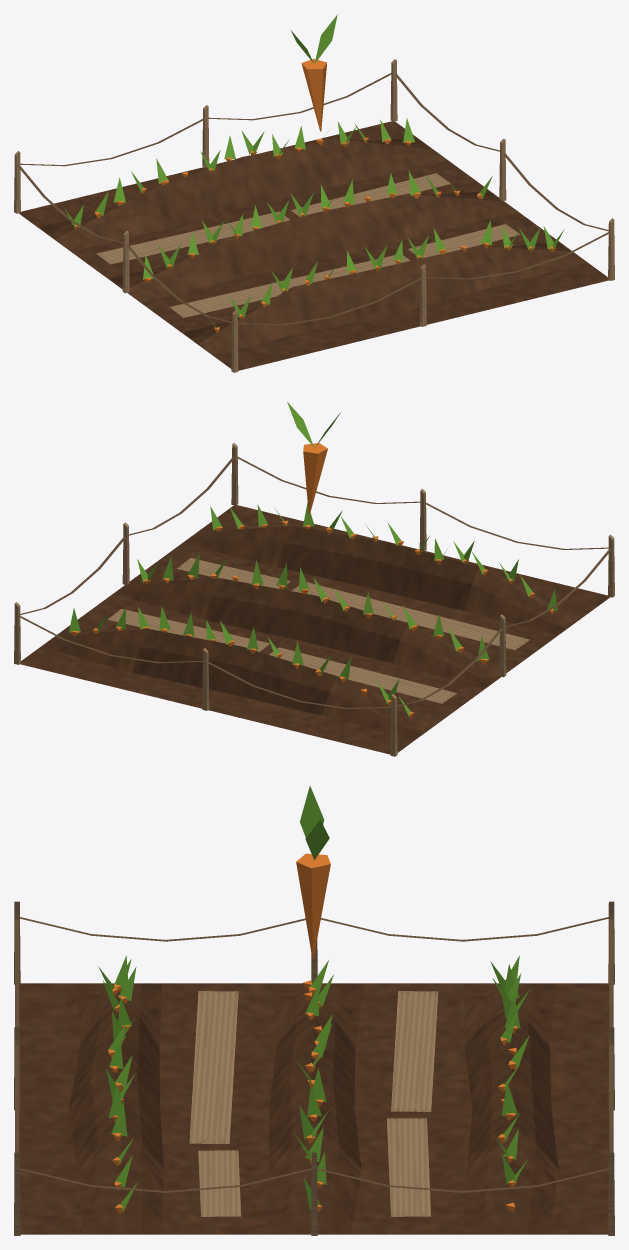
File: example-parcel_LOD1.glb
The picture shows the model from 3 angles, top to bottom: view 1: azimuth 30°, elevation 25°; view 2: azimuth 150°, elevation 25°; view 3: azimuth 270°, elevation 25°; orthographic projection. The views are drawn at different scales.
Parts seen in each view (by area): view 1: sol_000_LOD1, butte_005_LOD1, butte_003_LOD1, butte_001_LOD1, rang_004_LOD1, rang_006_LOD1, rang_002_LOD1, planche_007_LOD1, planche_009_LOD1, marqueur_011_LOD1, planche_010_LOD1, planche_008_LOD1; view 2: sol_000_LOD1, butte_001_LOD1, butte_005_LOD1, butte_003_LOD1, planche_007_LOD1, rang_004_LOD1, rang_006_LOD1, planche_009_LOD1, rang_002_LOD1, marqueur_011_LOD1, planche_010_LOD1, planche_008_LOD1; view 3: sol_000_LOD1, butte_005_LOD1, butte_001_LOD1, butte_003_LOD1, planche_007_LOD1, planche_009_LOD1, planche_010_LOD1, rang_002_LOD1, marqueur_011_LOD1, rang_004_LOD1, rang_006_LOD1, planche_008_LOD1 (+4 smaller).
Boxes of the visible parts, x1,y1,x2,y2 form: sol_000_LOD1: [19, 121, 608, 370]; butte_005_LOD1: [39, 137, 446, 251]; butte_003_LOD1: [109, 190, 516, 302]; butte_001_LOD1: [183, 241, 585, 355]; rang_004_LOD1: [143, 170, 492, 282]; rang_006_LOD1: [64, 118, 414, 229]; rang_002_LOD1: [209, 220, 564, 332]; planche_007_LOD1: [169, 255, 410, 317]; planche_009_LOD1: [96, 211, 289, 264]; marqueur_011_LOD1: [291, 14, 337, 131]; planche_010_LOD1: [290, 173, 450, 217]; planche_008_LOD1: [408, 224, 520, 257]; sol_000_LOD1: [20, 505, 609, 754]; butte_001_LOD1: [184, 523, 587, 634]; butte_005_LOD1: [42, 625, 445, 740]; butte_003_LOD1: [115, 573, 515, 688]; planche_007_LOD1: [291, 582, 529, 650]; rang_004_LOD1: [137, 552, 489, 664]; rang_006_LOD1: [68, 606, 413, 717]; planche_009_LOD1: [269, 647, 456, 703]; rang_002_LOD1: [210, 502, 557, 614]; marqueur_011_LOD1: [287, 402, 340, 514]; planche_010_LOD1: [107, 608, 270, 651]; planche_008_LOD1: [177, 558, 290, 588]; sol_000_LOD1: [19, 983, 609, 1234]; butte_005_LOD1: [462, 984, 558, 1233]; butte_001_LOD1: [68, 984, 164, 1233]; butte_003_LOD1: [269, 984, 364, 1233]; planche_007_LOD1: [189, 991, 238, 1143]; planche_009_LOD1: [391, 991, 438, 1111]; planche_010_LOD1: [386, 1118, 431, 1216]; rang_002_LOD1: [98, 956, 137, 1213]; marqueur_011_LOD1: [296, 786, 330, 957]; rang_004_LOD1: [294, 960, 333, 1211]; rang_006_LOD1: [490, 955, 529, 1212]; planche_008_LOD1: [198, 1150, 241, 1216].
Size of the model in its own units: 2.53 by 1.42 by 2.53.
4 materials, 2 textured.
